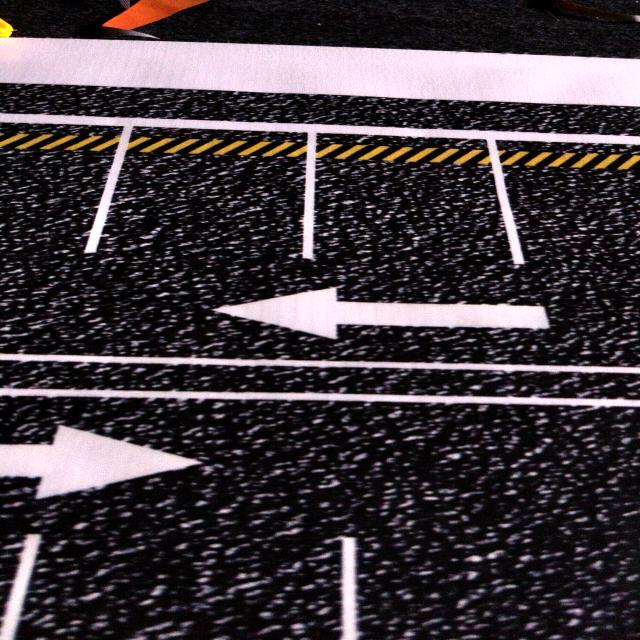others: (102, 0, 207, 32), (0, 19, 13, 38)
slots: (97, 150, 304, 281), (314, 158, 510, 283)
